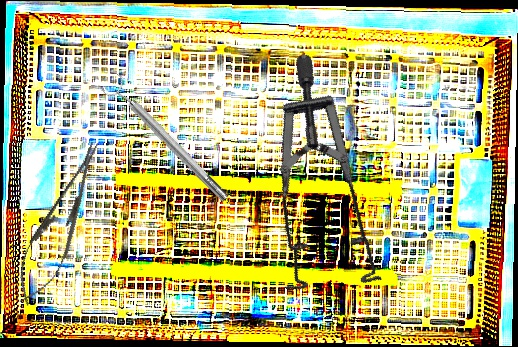Fixation Ring: (100, 71, 235, 210)
Needle Holder: (4, 133, 116, 313)
Speculum: (207, 50, 455, 324)
